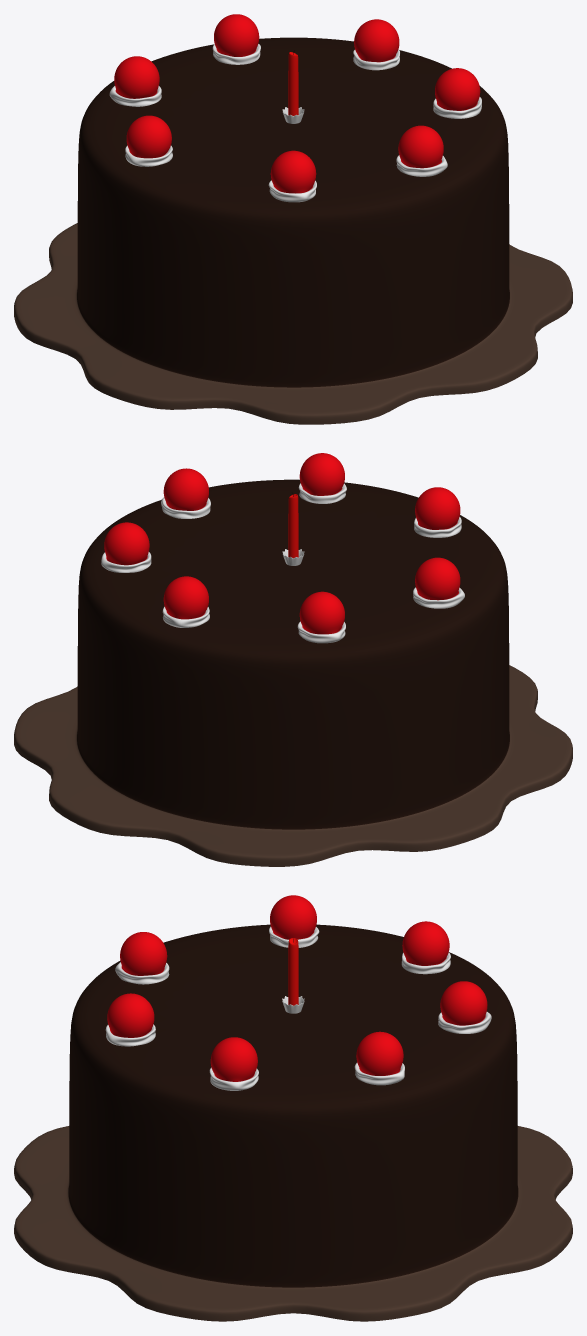
The model's file is cake.fbx.
3 renders of one model, top to bottom at view 1: azimuth 30°, elevation 25°; view 2: azimuth 150°, elevation 25°; view 3: azimuth 270°, elevation 25°, orthographic. The views are drawn at different scales.
Parts seen in each view (by area): view 1: cake, decoration, candle; view 2: cake, decoration, candle; view 3: cake, decoration, candle.
Boxes of the visible parts, x1,y1,x2,y2 form: cake: [14, 37, 572, 424]; decoration: [109, 14, 481, 202]; candle: [282, 50, 304, 123]; cake: [14, 479, 572, 866]; decoration: [101, 453, 464, 643]; candle: [282, 492, 304, 565]; cake: [14, 924, 572, 1321]; decoration: [105, 895, 491, 1090]; candle: [282, 938, 304, 1013].
Bounding box in the file's own units: 248 × 130 × 248.
